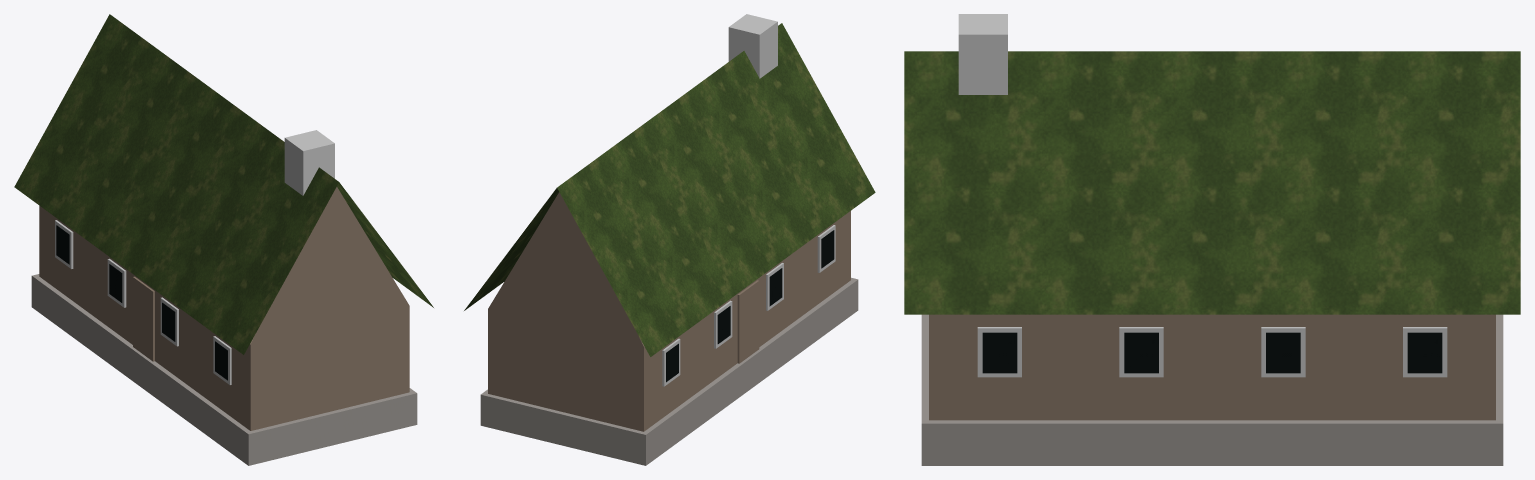
File: SM_Art_Settlement_Nordic_4.gltf
3 views of the same model, side by side, from view 1: azimuth 30°, elevation 25°; view 2: azimuth 150°, elevation 25°; view 3: azimuth 270°, elevation 25° (orthographic). The views are drawn at different scales.
Visible parts, largest first — view 1: SM_Art_Settlement_Nordic_4; view 2: SM_Art_Settlement_Nordic_4; view 3: SM_Art_Settlement_Nordic_4.
Boxes of the visible parts, x1,y1,x2,y2 form: SM_Art_Settlement_Nordic_4: (14, 14, 433, 465); SM_Art_Settlement_Nordic_4: (464, 14, 875, 465); SM_Art_Settlement_Nordic_4: (904, 14, 1520, 465).
Bounding box in the file's own units: 6 × 8.65 × 12.5.
